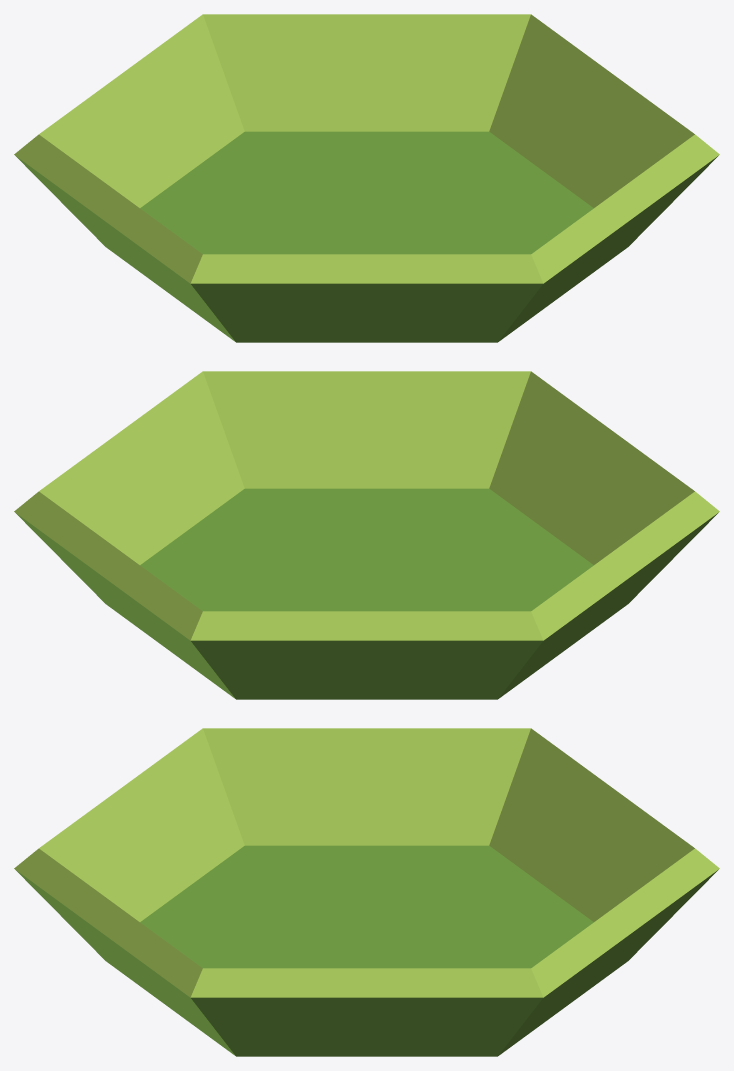
File: Plate.fbx
3 views of the same model, one above another, from view 1: azimuth 30°, elevation 25°; view 2: azimuth 150°, elevation 25°; view 3: azimuth 270°, elevation 25° (orthographic).
Visible parts, largest first — view 1: Plate; view 2: Plate; view 3: Plate.
Boxes of the visible parts, <box> form: Plate: <box>14,14,719,342</box>; Plate: <box>14,371,719,699</box>; Plate: <box>14,728,719,1056</box>.
Size of the model in its own units: 18.32 by 3.73 by 21.15.
